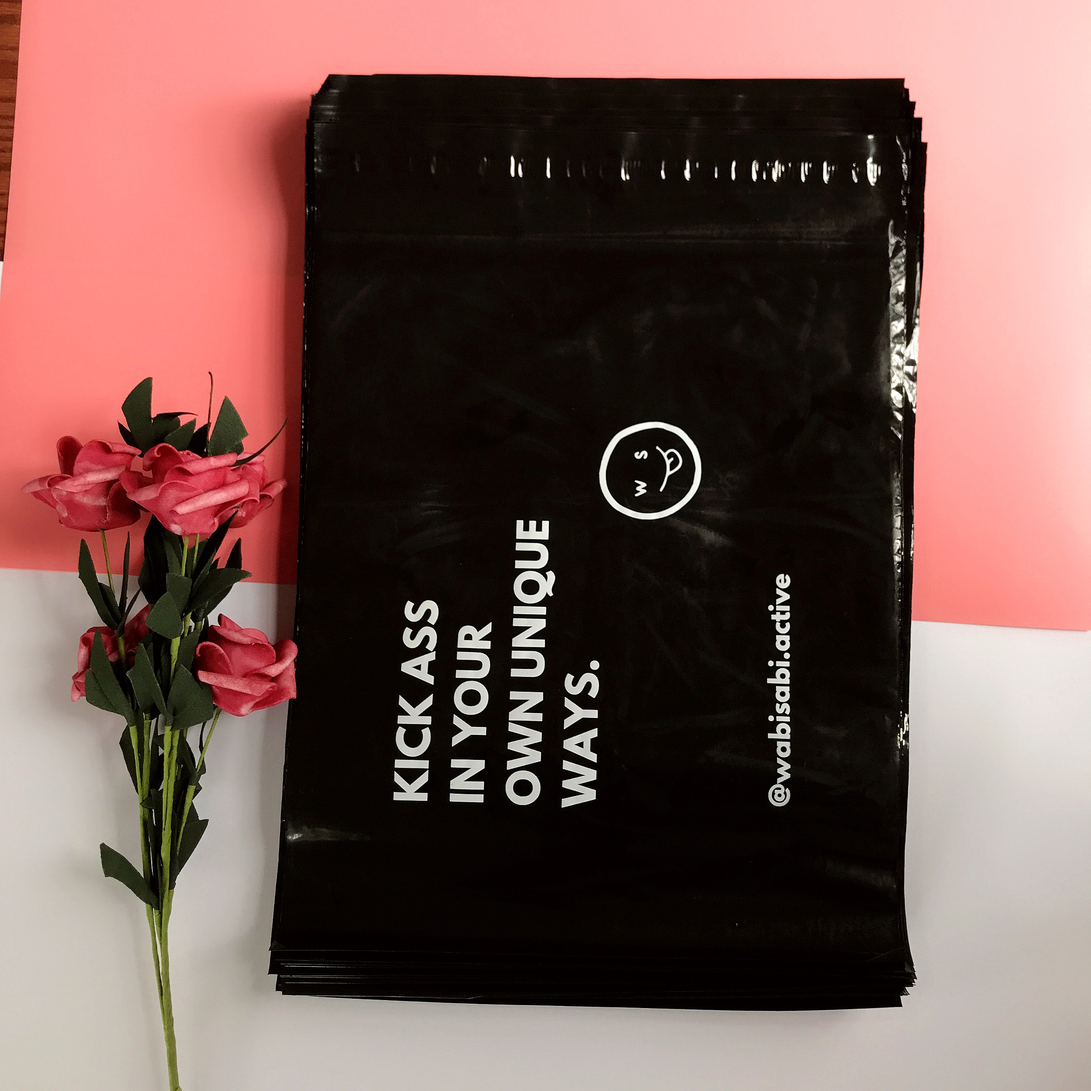塑料袋: (271, 77, 925, 1008)
